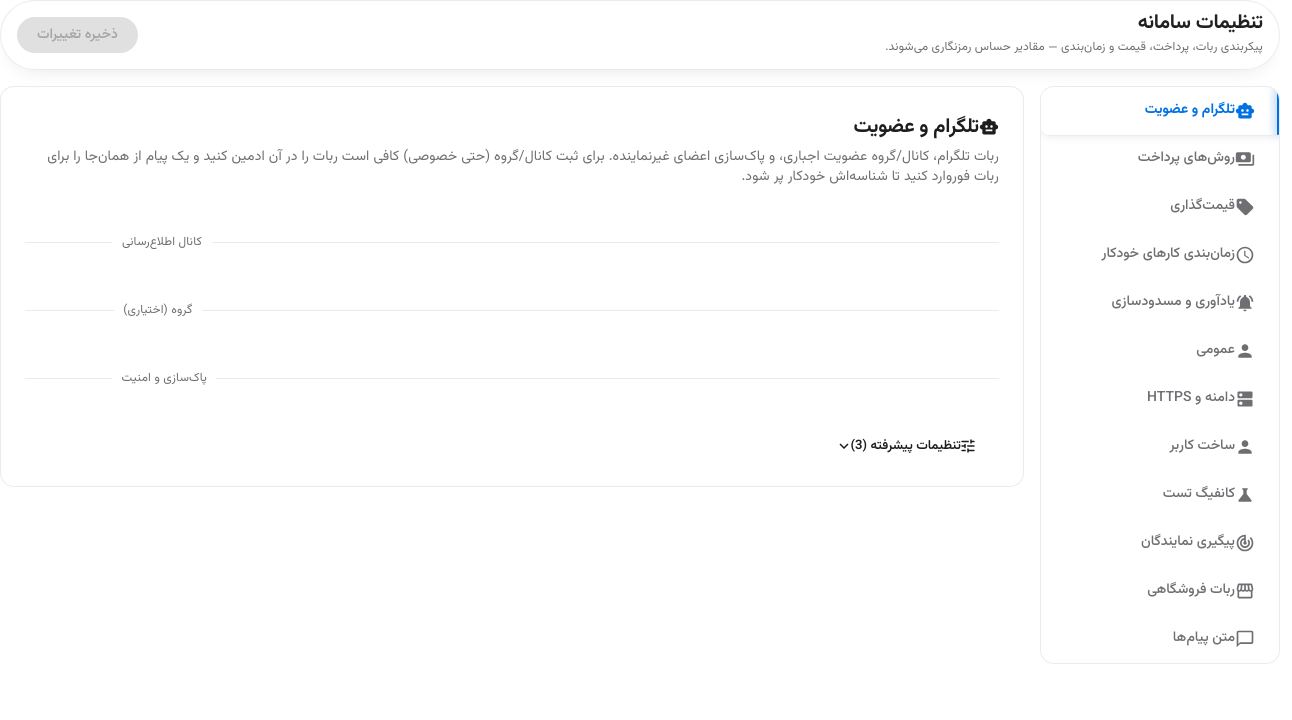
Settings numeric fields › refuses to save an emptied number rather than writing 0
The width and height of the screenshot is (1292, 720).
Click the tab "قیمت‌گذاری" at (1160, 207), box [1041,183,1279,231]
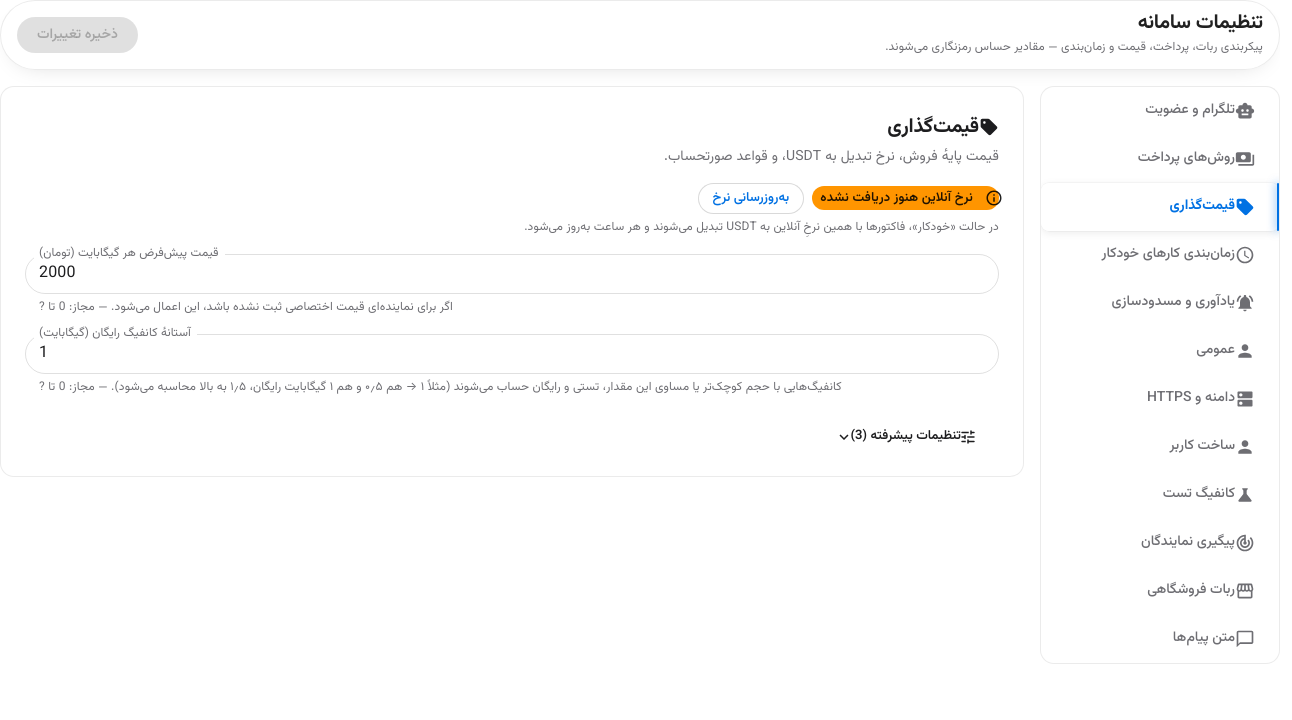
Expected: the field labelled "قیمت پیش‌فرض هر گیگابایت (تومان)" holds "2000"
Clear the field labelled "قیمت پیش‌فرض هر گیگابایت (تومان)" at (512, 274), box [25,254,999,294]
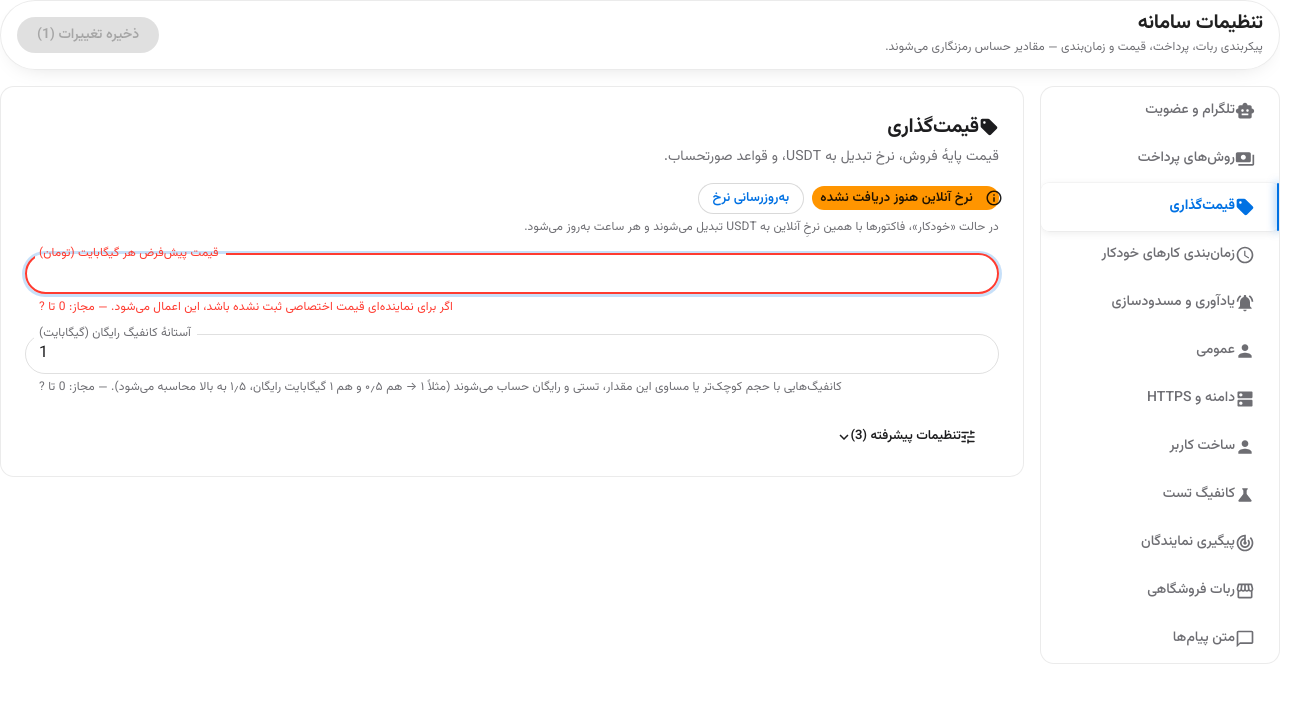
Expected: the button "ذخیره تغییرات (1)" is disabled, [17,17,159,53]
Type "3000" into the field labelled "قیمت پیش‌فرض هر گیگابایت (تومان)" at (512, 274), box [25,254,999,294]
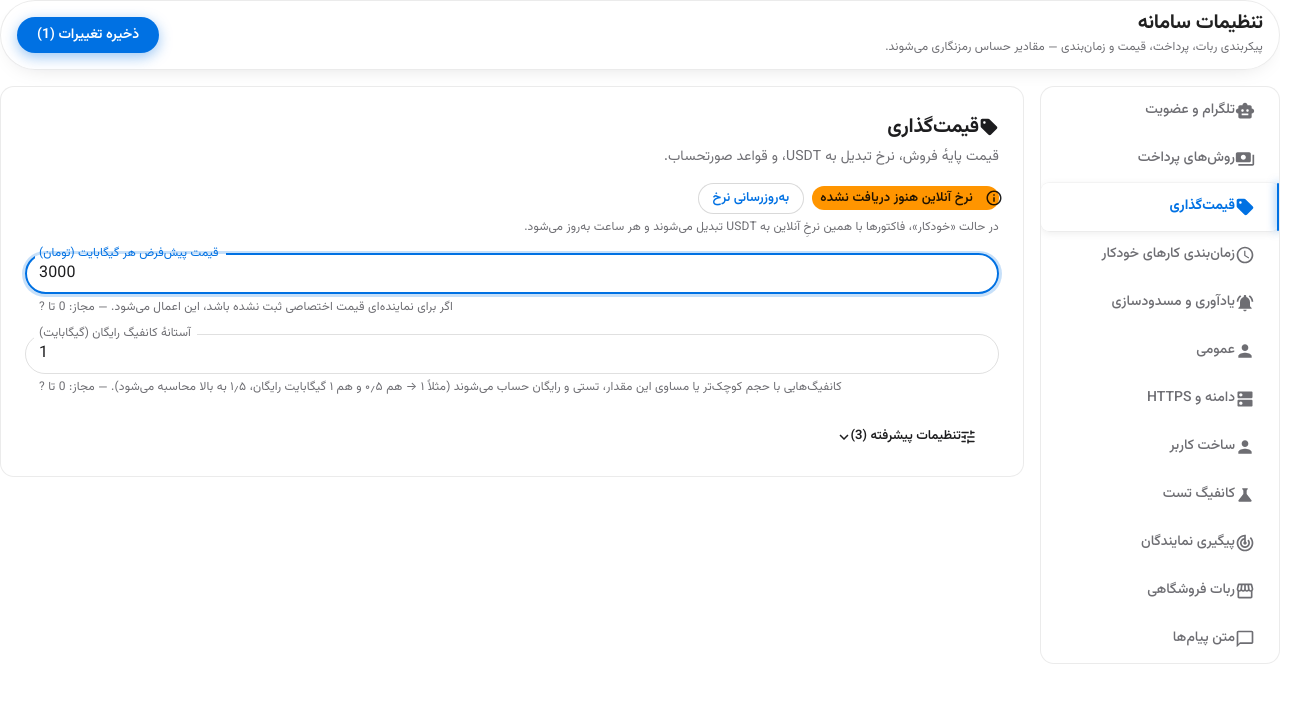
Expected: the button "ذخیره تغییرات (1)" is enabled, [17,17,159,53]
